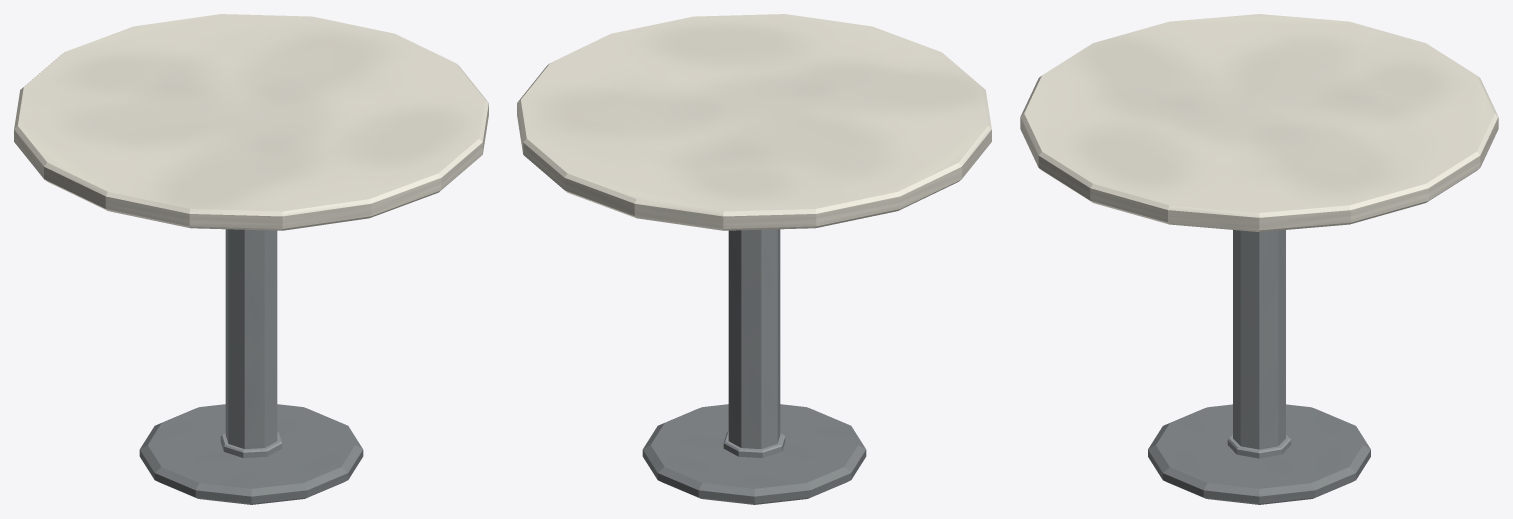
The model's file is pedestal_table.glb.
3 renders of one model, left to right at view 1: azimuth 30°, elevation 25°; view 2: azimuth 150°, elevation 25°; view 3: azimuth 270°, elevation 25°, orthographic.
Parts seen in each view (by area): view 1: core_pedestal_table; view 2: core_pedestal_table; view 3: core_pedestal_table.
Part boxes in pixels (left/top/right/bottom): core_pedestal_table: left=14, top=14, right=488, bottom=504; core_pedestal_table: left=517, top=14, right=991, bottom=504; core_pedestal_table: left=1020, top=14, right=1498, bottom=504.
Size of the model in its own units: 0.9 by 0.72 by 0.9.
Materials: 2 (2 with a texture image).
